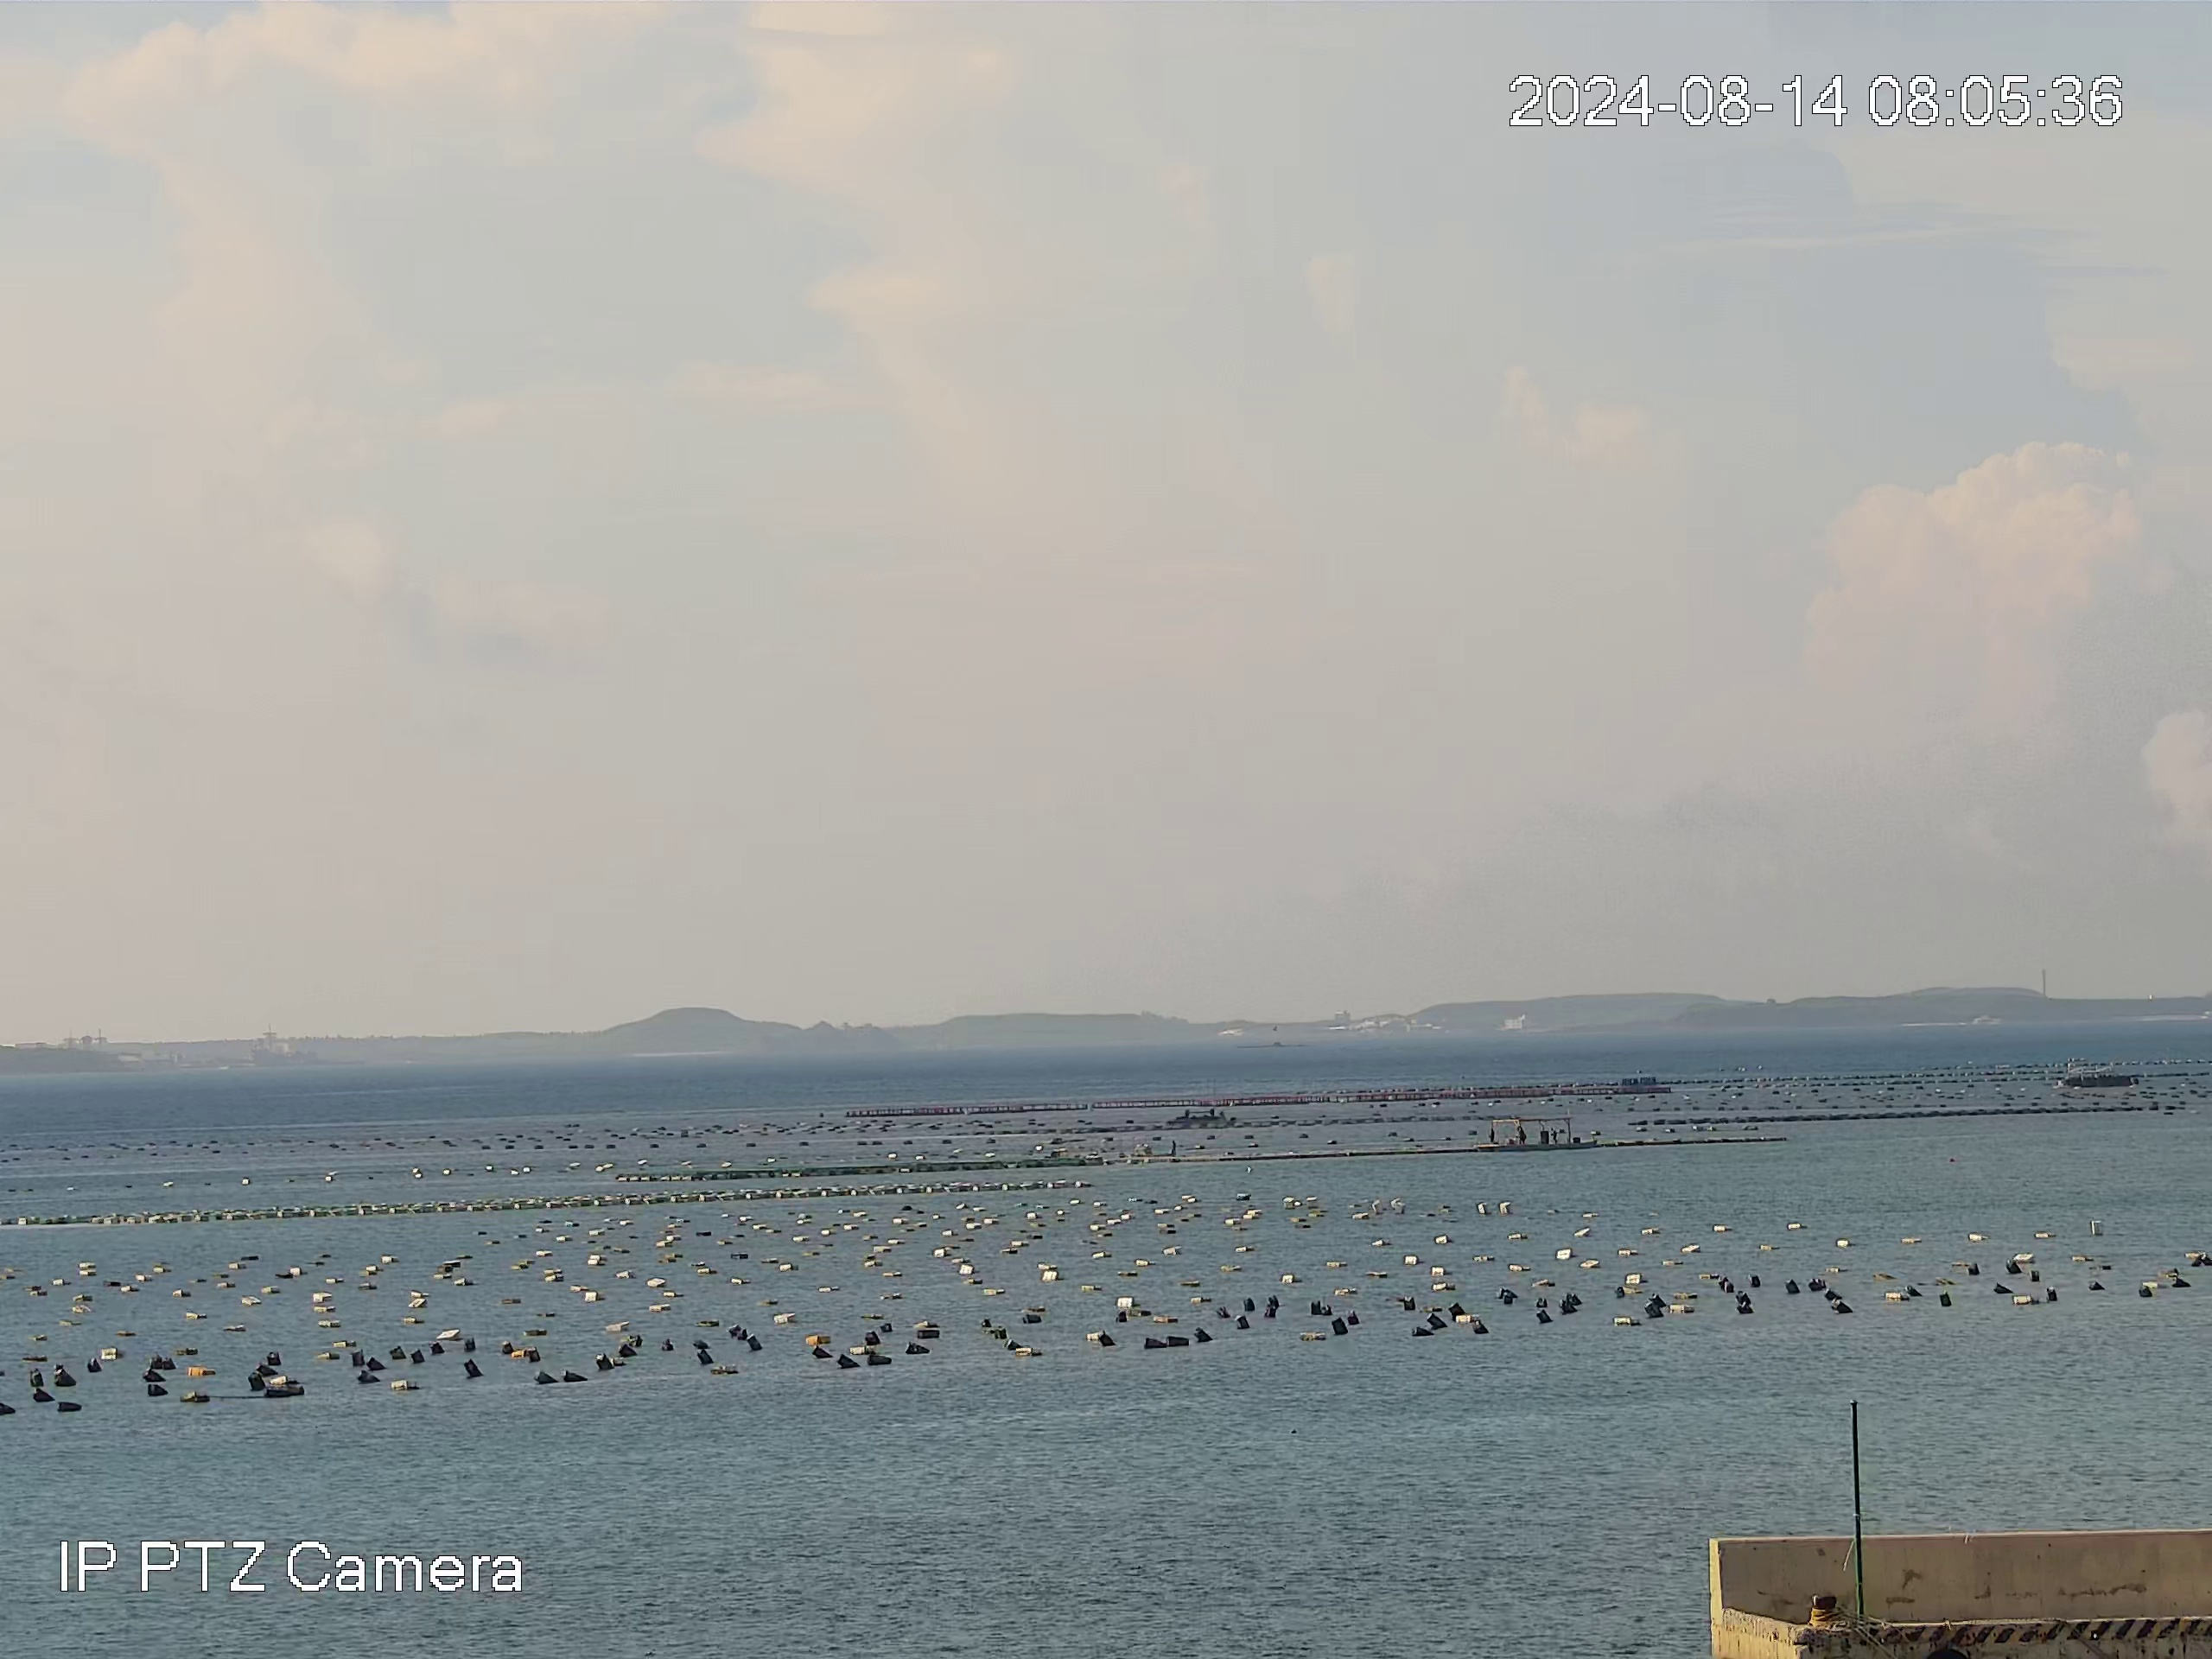boat: (1484, 1121, 1588, 1150), (2059, 1061, 2146, 1091)
